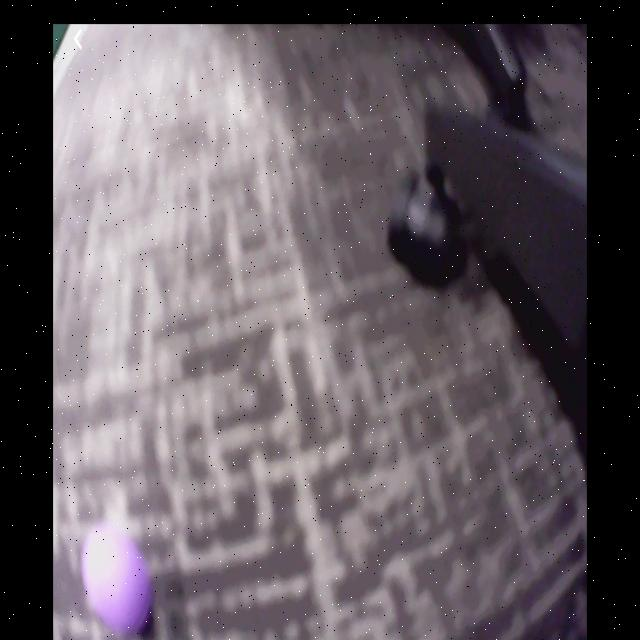ball: (81, 527, 155, 635)
